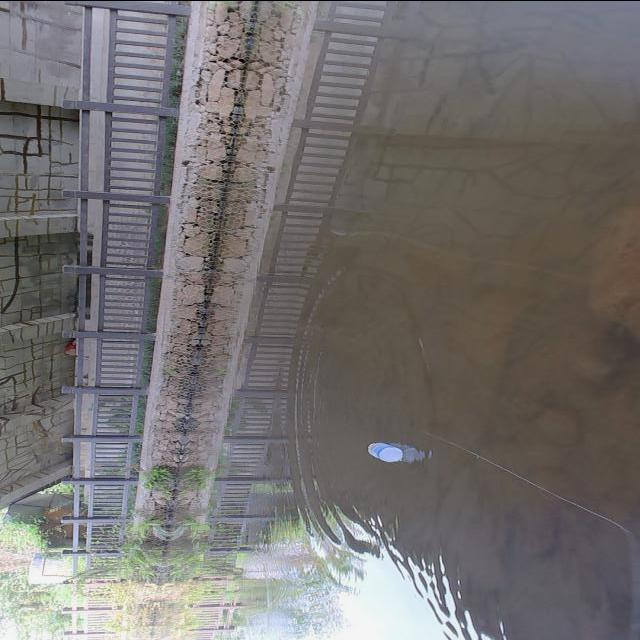bottle: (366, 432, 406, 466)
